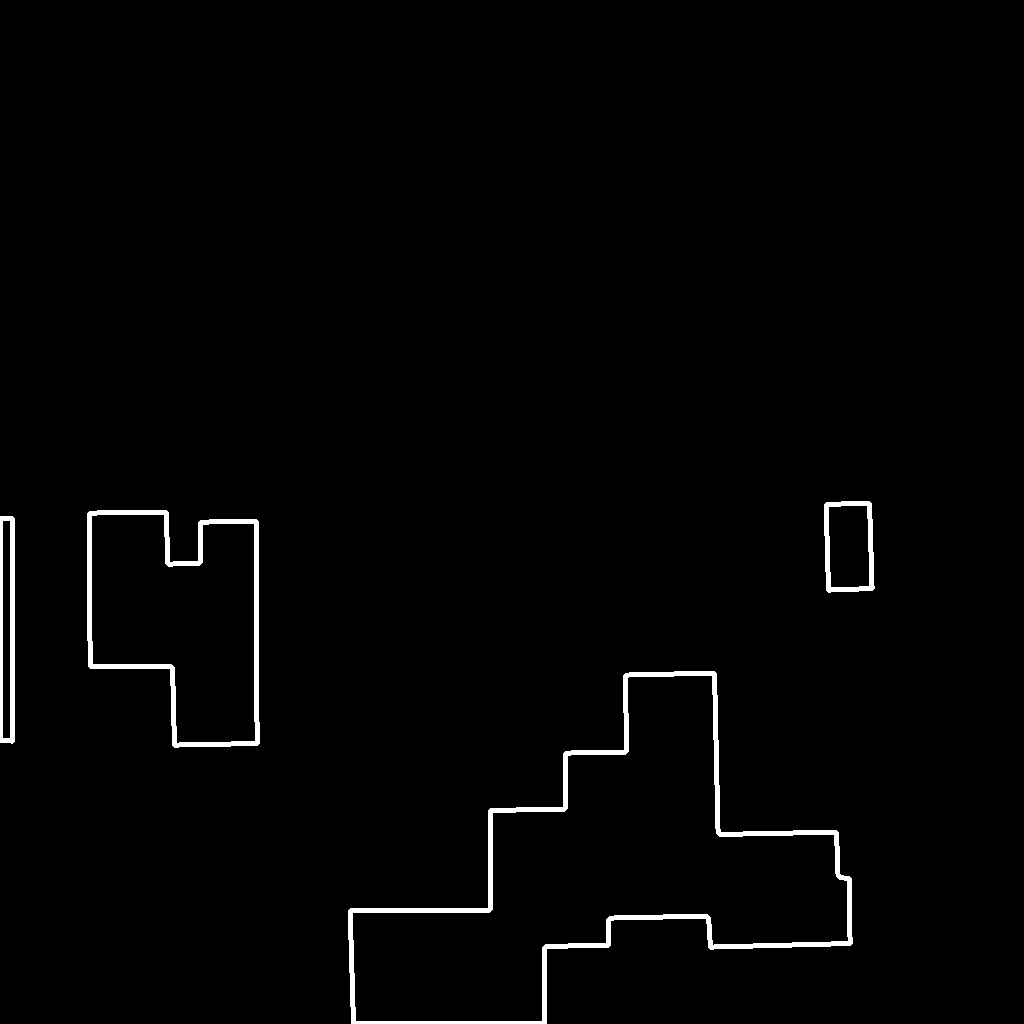building: (350, 673, 851, 1024), (89, 512, 258, 746), (826, 503, 873, 591), (0, 518, 14, 742)
